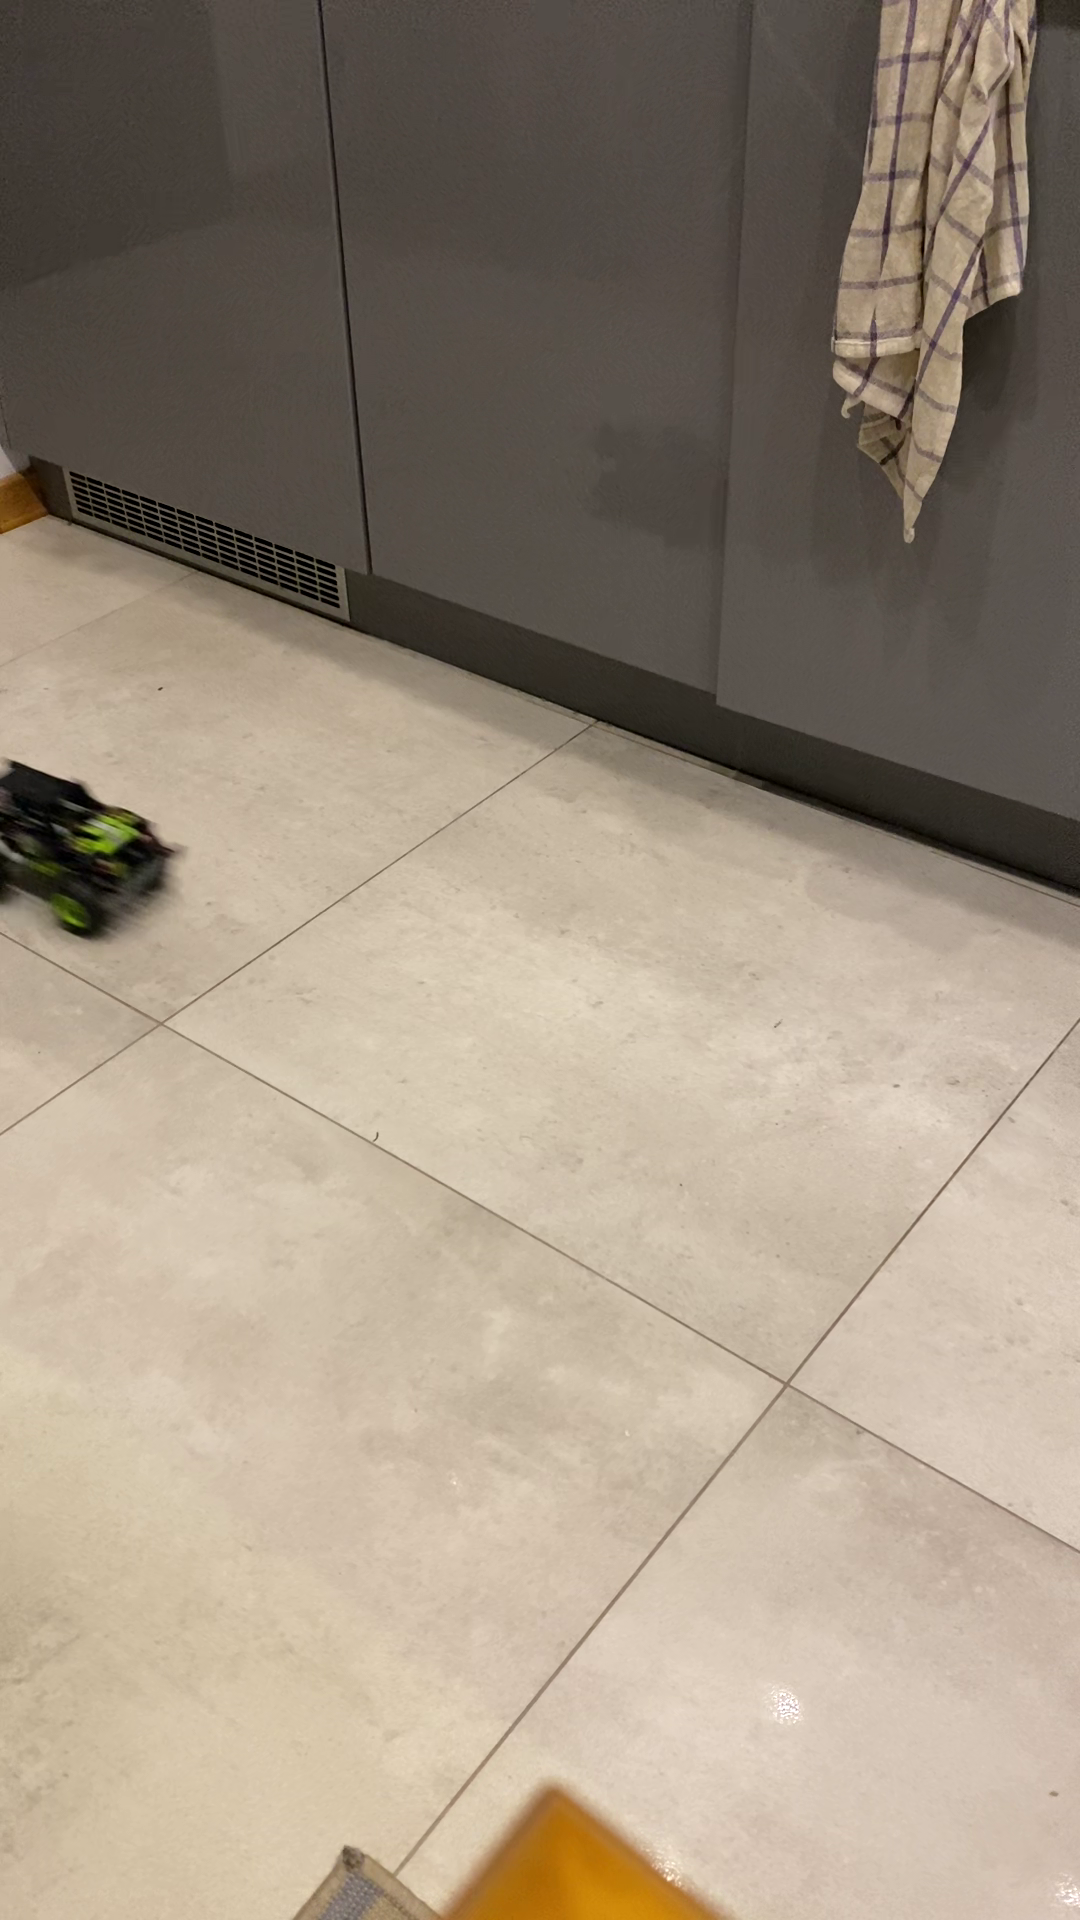car: (1, 746, 203, 963)
